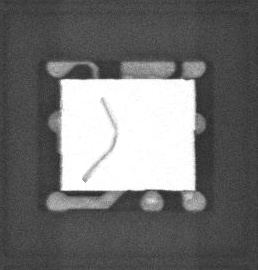DIE_INK: (78, 100, 114, 190)
